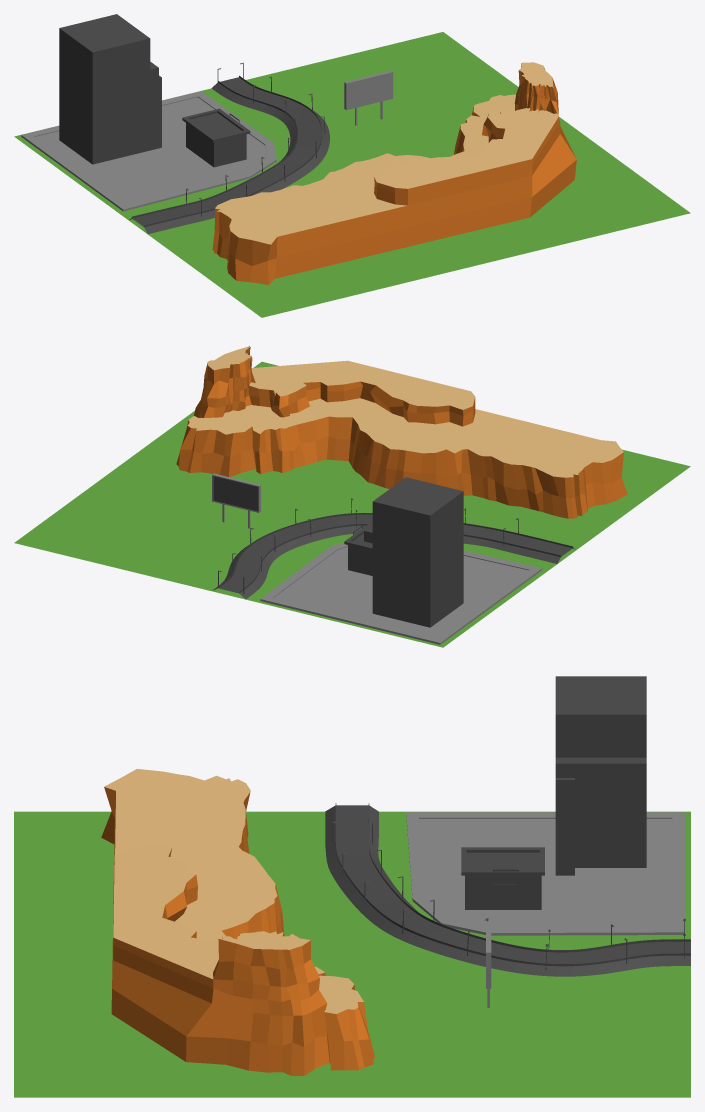
3 renders of one model, top to bottom at view 1: azimuth 30°, elevation 25°; view 2: azimuth 150°, elevation 25°; view 3: azimuth 270°, elevation 25°, orthographic. The views are drawn at different scales.
Parts seen in each view (by area): view 1: Cube.001; view 2: Cube.001; view 3: Cube.001.
Part boxes in pixels (x1=…): Cube.001: x1=14, y1=14, x2=690, y2=317; Cube.001: x1=14, y1=346, x2=690, y2=647; Cube.001: x1=14, y1=676, x2=690, y2=1097.
Size of the model in its own units: 20000 by 5072 by 20000.
